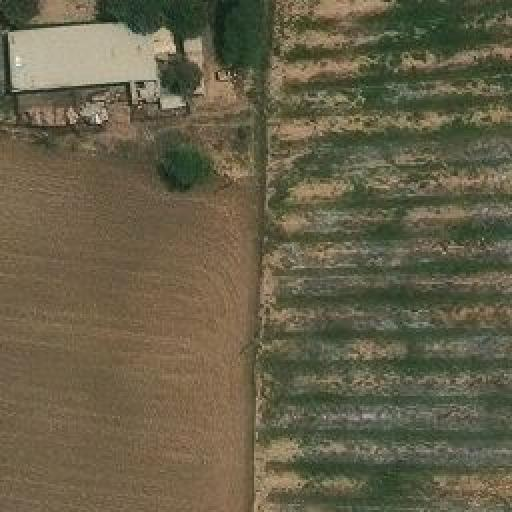manzanas: (5, 9, 213, 131)
